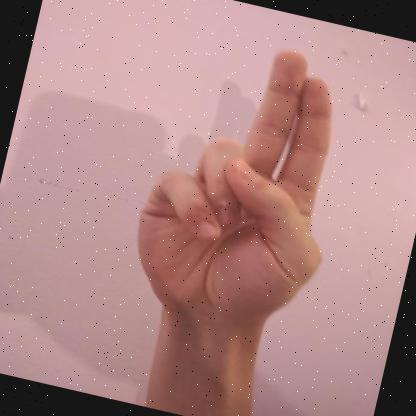U: (138, 51, 332, 328)
